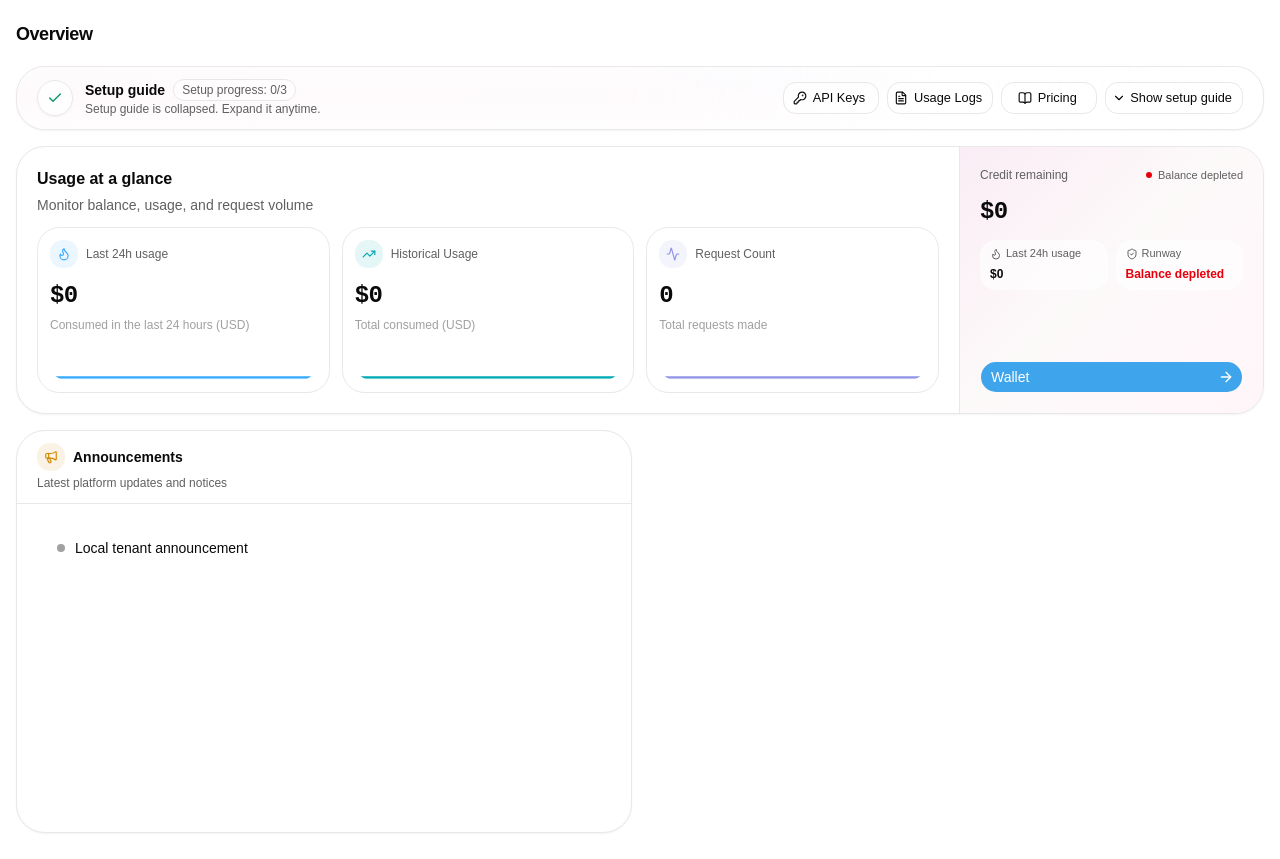
Test case: an unfinished manually collapsed setup retains its progress and expand action
expect the text "Setup progress: 0/3" is shown: met, box [173,79,296,101]
Click the button "Show setup guide". click: (1174, 98)
box: [1105,82,1243,114]
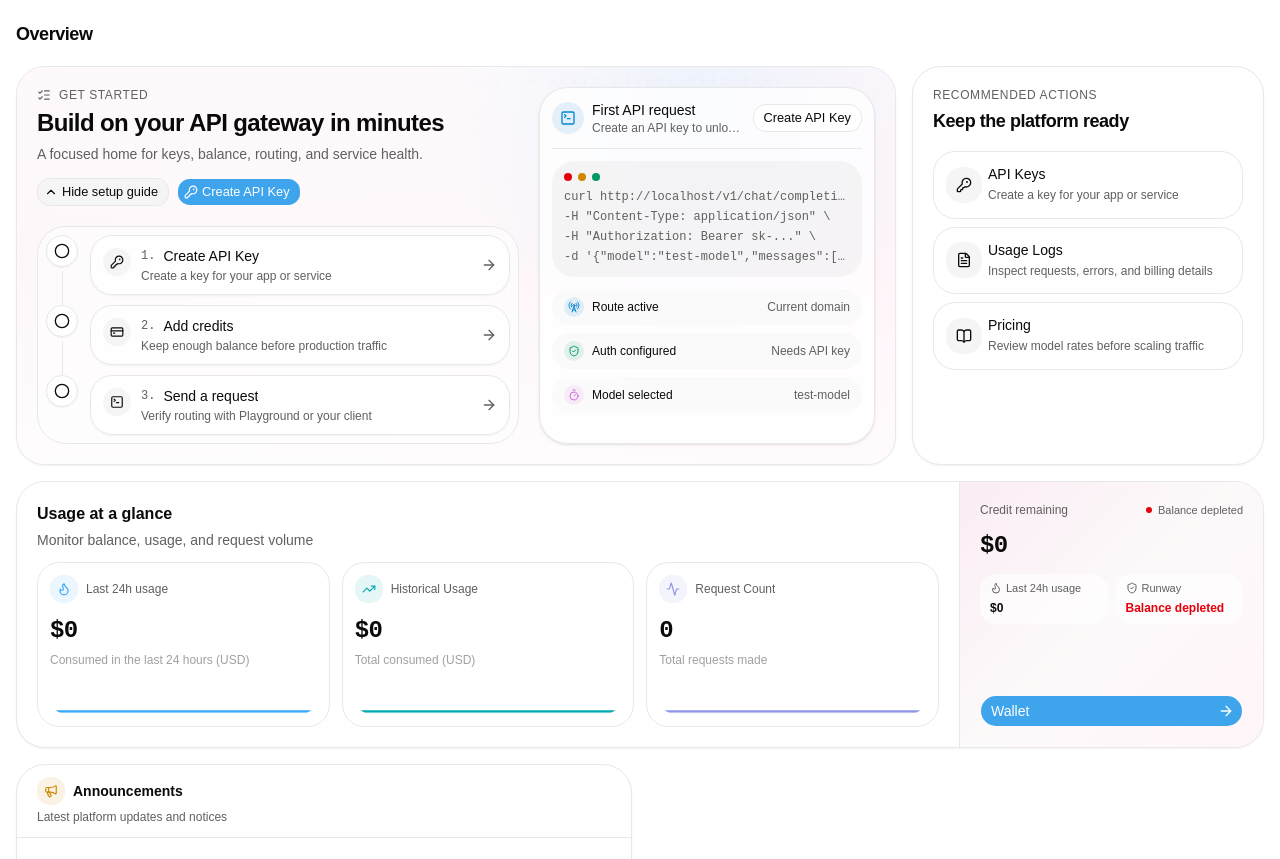
expect the button "Hide setup guide" is expanded: met, box [37,178,169,206]
